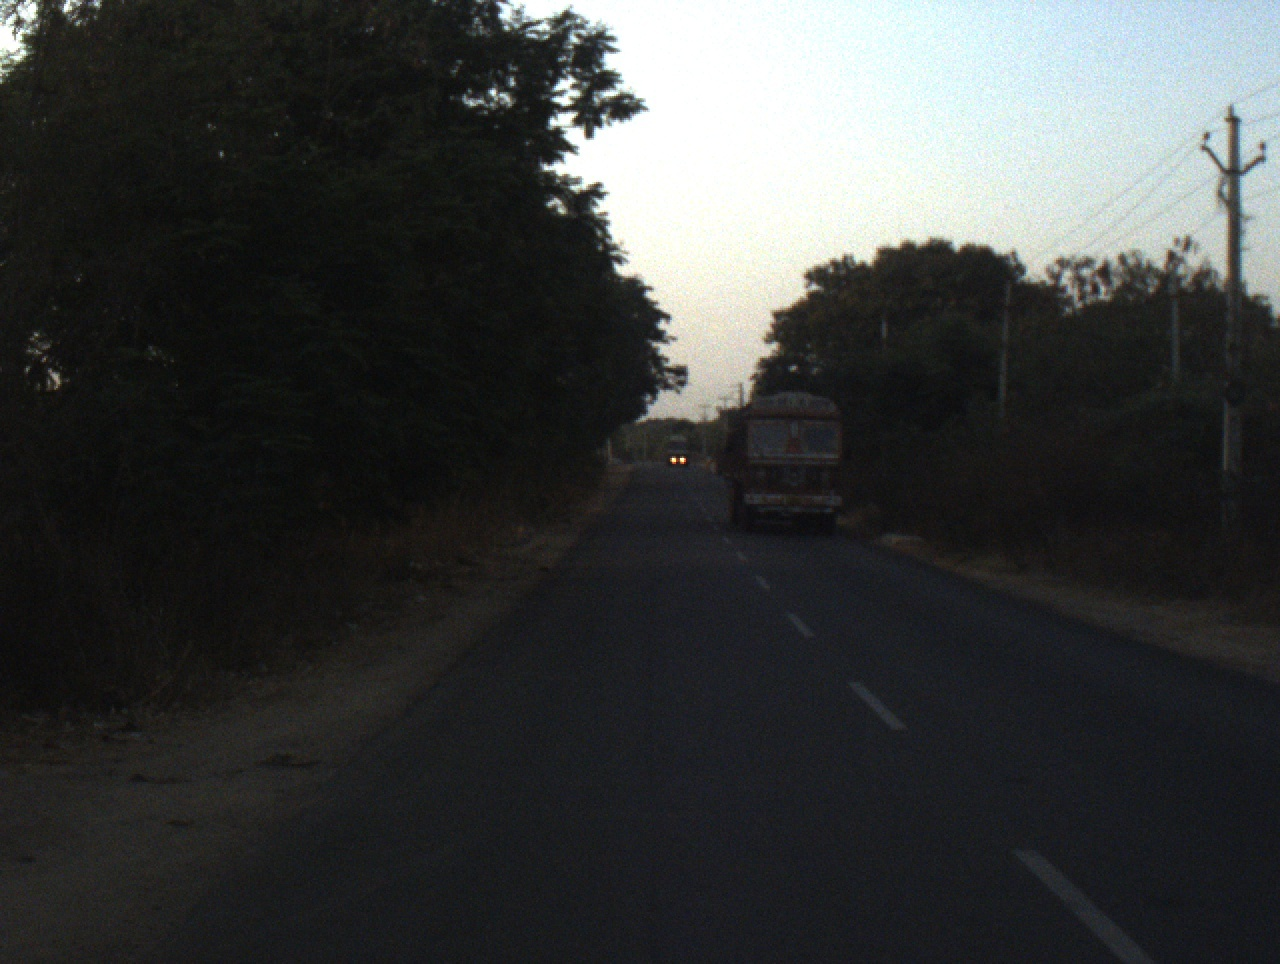truck: (711, 392, 849, 539), (657, 431, 697, 477)
